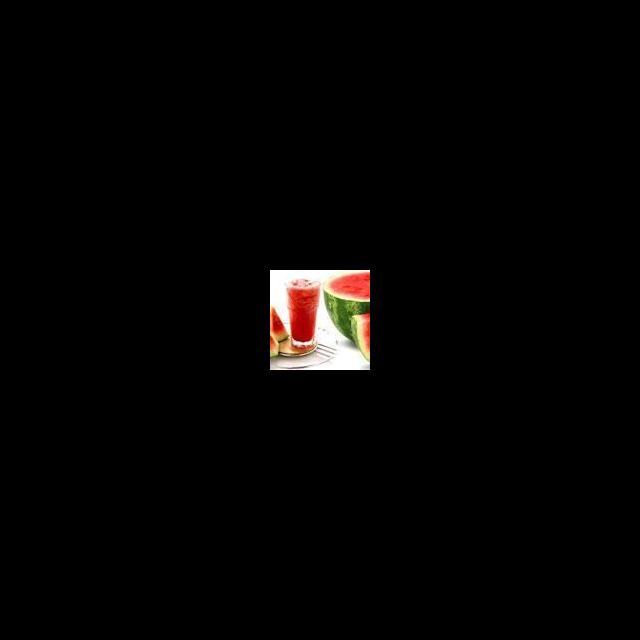watermelon: (323, 272, 370, 342), (350, 314, 370, 362), (270, 306, 289, 343), (270, 333, 279, 358)
